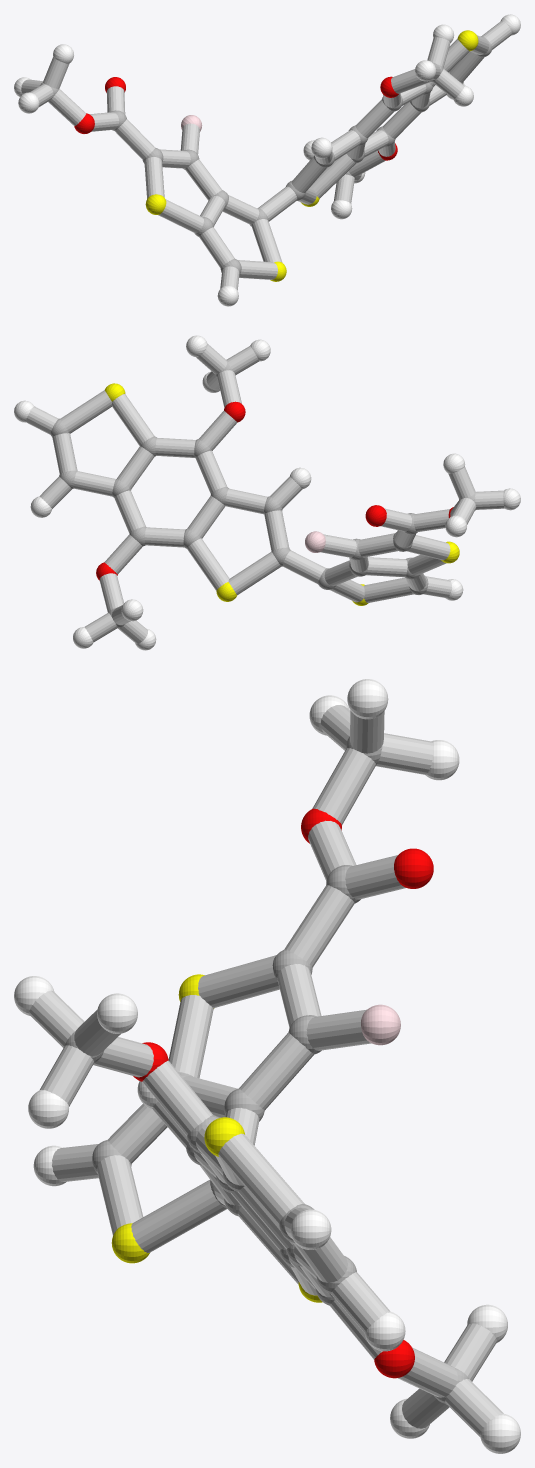
The model's file is color.glb.
3 renders of one model, top to bottom at view 1: azimuth 30°, elevation 25°; view 2: azimuth 150°, elevation 25°; view 3: azimuth 270°, elevation 25°, orthographic. The views are drawn at different scales.
Parts seen in each view (by area): view 1: grp15205, grp8689, grp1, grp7241, grp13395; view 2: grp15205, grp8689, grp1, grp13395, grp7241, grp14843; view 3: grp15205, grp8689, grp1, grp13395, grp7241, grp14843.
Boxes of the visible parts, left/top/right/bottom form: grp15205: left=21, top=21, right=511, bottom=290; grp8689: left=14, top=14, right=520, bottom=306; grp1: left=40, top=36, right=492, bottom=274; grp7241: left=145, top=30, right=478, bottom=281; grp13395: left=74, top=76, right=398, bottom=160; grp15205: left=26, top=344, right=504, bottom=643; grp8689: left=14, top=335, right=520, bottom=650; grp1: left=50, top=362, right=475, bottom=627; grp13395: left=96, top=401, right=453, bottom=580; grp7241: left=105, top=383, right=459, bottom=605; grp14843: left=305, top=531, right=325, bottom=552; grp15205: left=29, top=705, right=503, bottom=1436; grp8689: left=14, top=679, right=520, bottom=1453; grp1: left=64, top=736, right=468, bottom=1403; grp13395: left=133, top=808, right=433, bottom=1378; grp7241: left=111, top=974, right=322, bottom=1302; grp14843: left=361, top=1004, right=400, bottom=1045.
Bounding box in the file's own units: 16.11 × 7.83 × 7.42.
